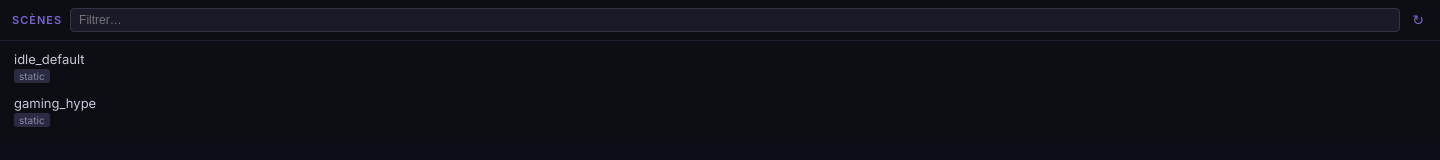
Test case: ScenesListPanel › filtre les scènes par nom
Expected: the text "idle_default" is shown, left=14, top=51, right=84, bottom=67
Type "gaming" into the field with placeholder "Filtrer…" at (735, 20), box left=70, top=8, right=1400, bottom=32
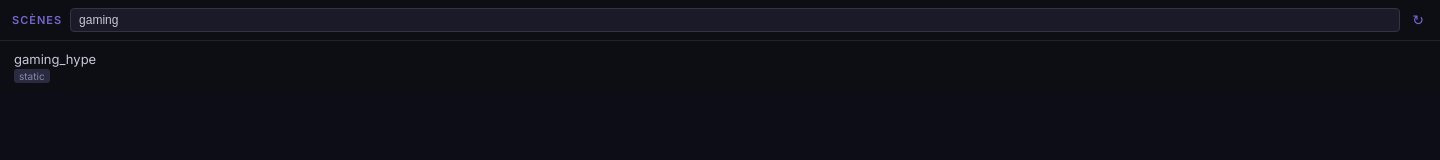
Expected: the text "gaming_hype" is shown, left=14, top=51, right=96, bottom=67
Now the option "idle_default" is gone
